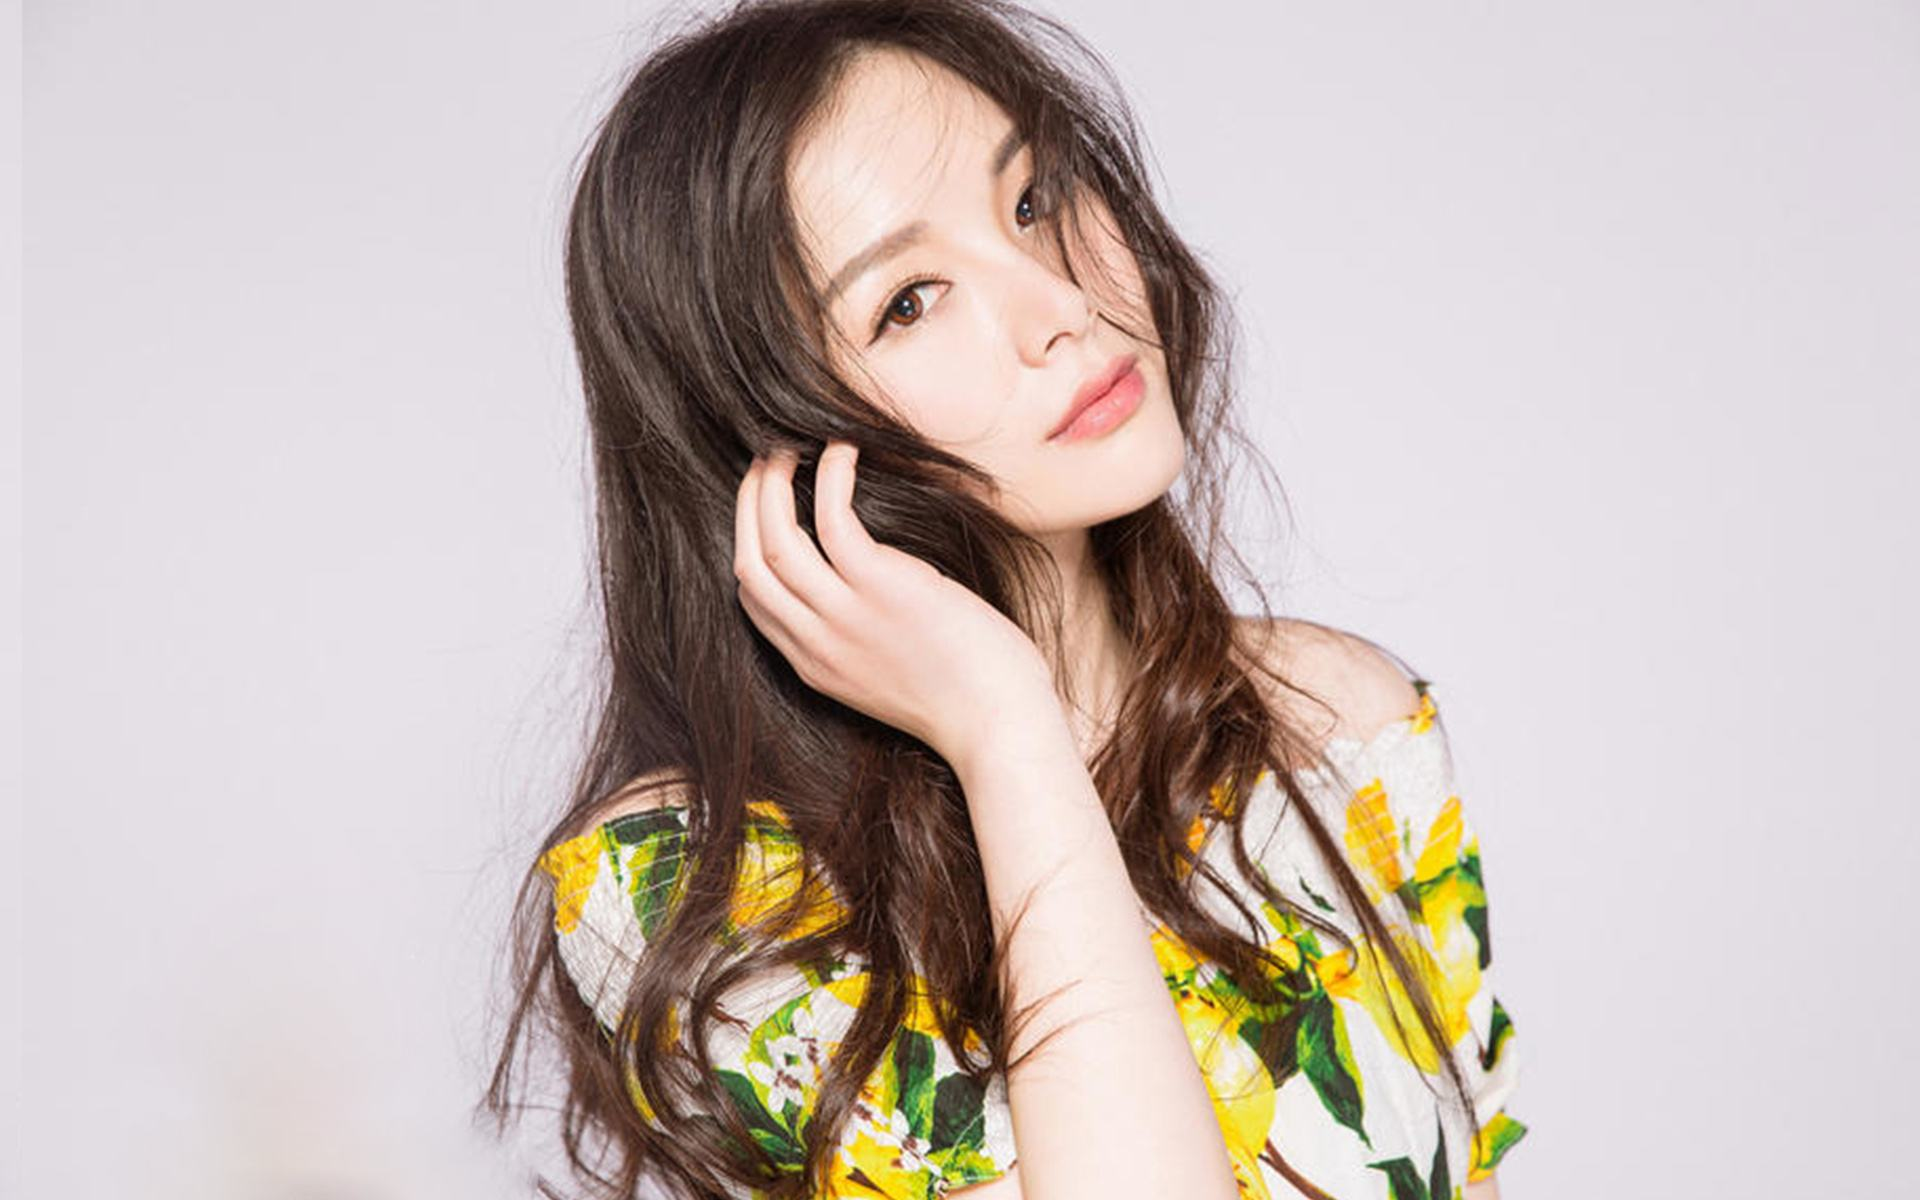person: (455, 27, 1451, 1127)
